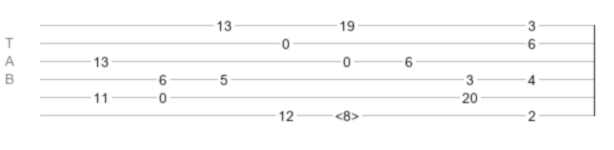0: (159, 90, 167, 100), (282, 36, 290, 46), (343, 54, 351, 64)
11: (93, 90, 109, 100)
12: (278, 108, 294, 118)
13: (93, 54, 109, 64), (216, 18, 232, 28)
19: (339, 18, 355, 28)
2: (528, 108, 536, 118)
20: (462, 90, 478, 100)
3: (466, 72, 474, 82), (528, 18, 536, 28)
4: (528, 72, 536, 82)
5: (220, 72, 228, 82)
6: (159, 72, 167, 82), (405, 54, 413, 64), (528, 36, 536, 46)
harmonic: (335, 108, 359, 118)
